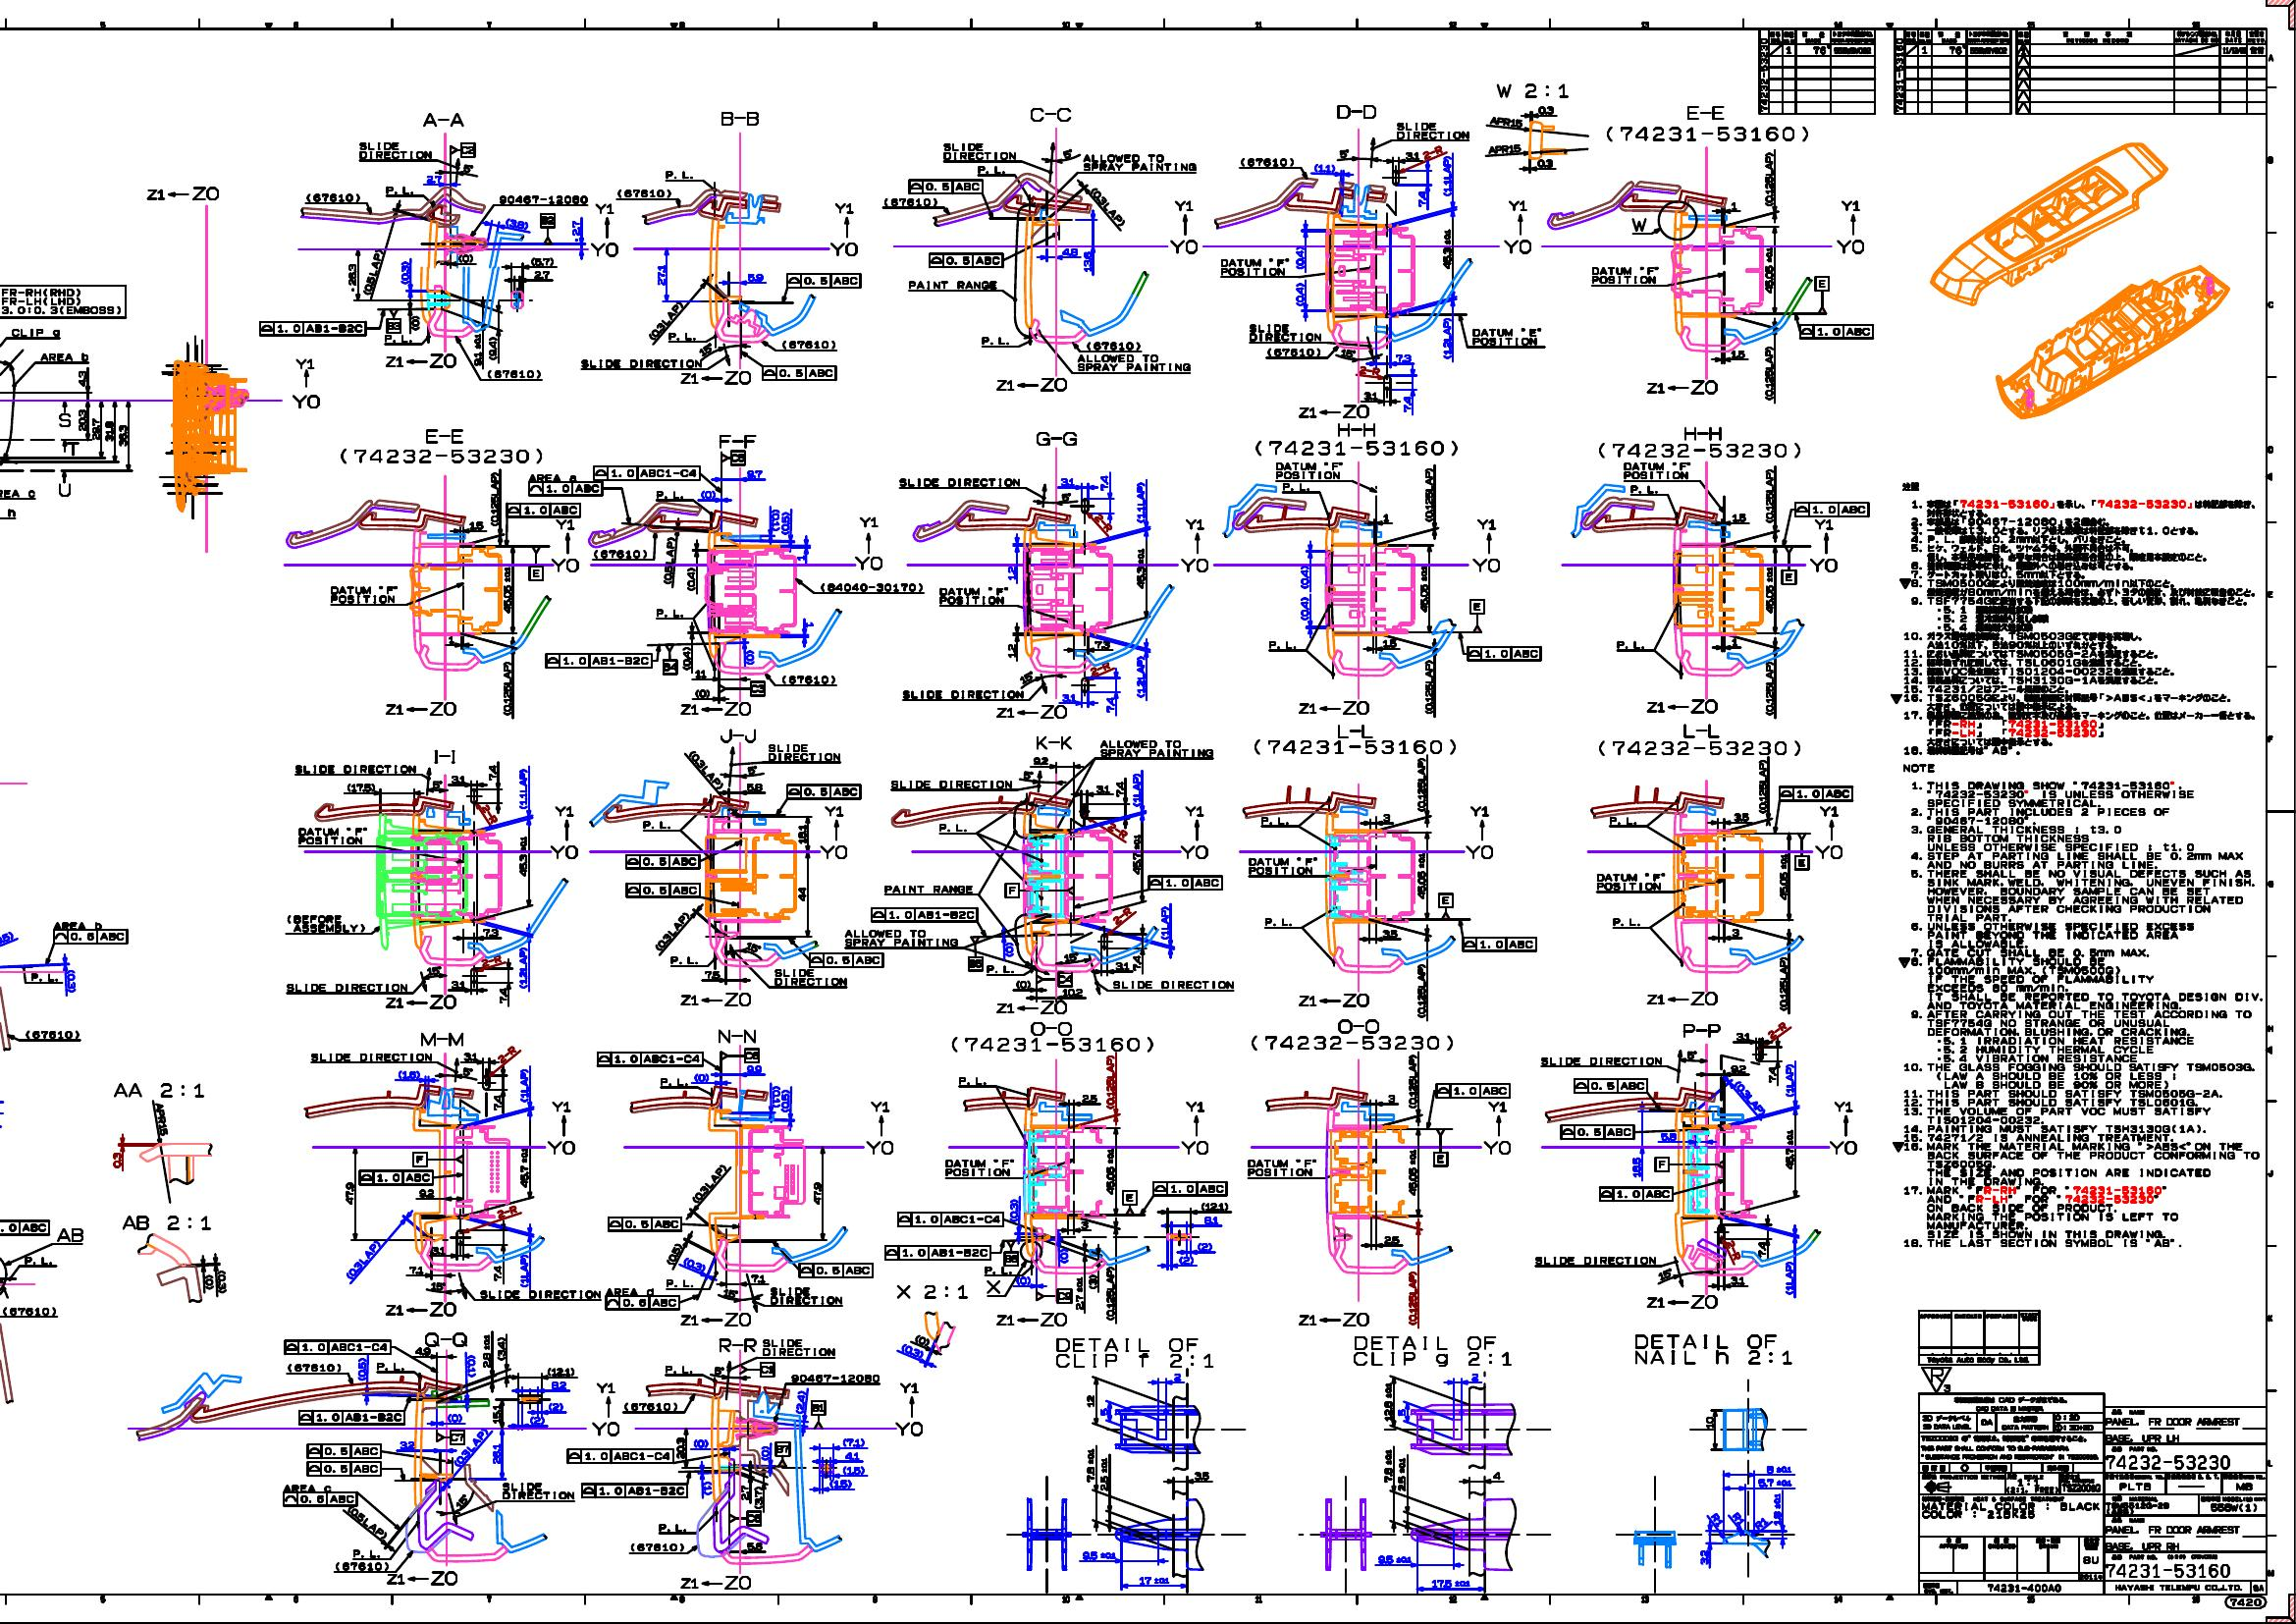anntotation_text: (1888, 480, 2261, 1250), (339, 427, 541, 466), (1254, 422, 1460, 457), (1606, 105, 1808, 141), (1249, 1018, 1456, 1051), (1597, 722, 1802, 756), (1597, 425, 1801, 457), (1254, 724, 1458, 756), (950, 1021, 1154, 1051), (1052, 1336, 1216, 1369), (1351, 1334, 1514, 1367), (1632, 1332, 1792, 1366), (0, 285, 126, 318), (1100, 738, 1214, 758), (845, 928, 959, 947), (1082, 153, 1196, 170), (1077, 353, 1191, 371), (53, 919, 126, 944), (112, 1079, 206, 1098), (121, 1213, 211, 1232), (604, 1287, 680, 1309), (1808, 518, 1839, 573), (529, 473, 603, 496), (1502, 199, 1532, 255), (1483, 1100, 1513, 1156), (546, 1100, 576, 1156), (894, 1380, 924, 1436), (898, 1211, 1003, 1227), (550, 518, 580, 573), (590, 1381, 620, 1436), (829, 202, 859, 257), (1472, 517, 1500, 573), (1180, 517, 1209, 573), (292, 357, 321, 410), (550, 805, 580, 858), (283, 1483, 357, 1504), (1170, 199, 1198, 253), (1836, 199, 1864, 253), (820, 805, 848, 859), (1180, 805, 1209, 859), (1465, 805, 1493, 859), (1815, 805, 1843, 859), (1829, 1100, 1857, 1155), (864, 1100, 892, 1155), (590, 202, 618, 257), (594, 466, 699, 480), (260, 322, 365, 336), (871, 907, 977, 921), (1180, 1100, 1209, 1153), (884, 1244, 989, 1258), (597, 1051, 703, 1065), (299, 1410, 404, 1424), (567, 1448, 673, 1462), (856, 517, 882, 571), (358, 141, 432, 160), (942, 141, 1015, 160), (286, 914, 365, 932), (1395, 121, 1470, 139), (144, 185, 220, 202), (773, 968, 848, 986), (1221, 257, 1289, 276), (1590, 265, 1658, 285), (1274, 459, 1342, 478), (1249, 323, 1323, 341), (901, 689, 1024, 700), (768, 743, 841, 761), (891, 779, 1014, 789), (896, 1283, 970, 1301), (285, 1341, 390, 1353), (581, 1483, 687, 1496), (762, 1338, 836, 1355), (1091, 186, 1124, 225), (1623, 460, 1690, 480), (330, 584, 397, 603), (546, 654, 650, 666), (769, 1287, 841, 1304), (502, 1482, 574, 1499), (1298, 1311, 1370, 1329), (1470, 327, 1541, 344), (938, 587, 1008, 605), (297, 826, 367, 844), (1247, 856, 1318, 874), (1245, 1158, 1316, 1176), (1597, 872, 1665, 889), (945, 1158, 1014, 1176), (1794, 501, 1869, 517), (1296, 404, 1370, 420), (1495, 83, 1569, 98), (787, 784, 861, 800), (1574, 1077, 1648, 1093), (1296, 991, 1370, 1007), (608, 1216, 682, 1232), (307, 1443, 381, 1459), (307, 1461, 381, 1476), (994, 1311, 1068, 1327), (787, 272, 861, 288), (1646, 380, 1718, 395), (1298, 700, 1370, 715), (385, 352, 457, 367), (385, 993, 457, 1009), (678, 991, 750, 1007), (1646, 698, 1718, 714), (1780, 786, 1852, 801), (1646, 1294, 1718, 1309), (680, 1311, 752, 1327), (385, 1301, 457, 1316), (386, 1570, 457, 1585), (898, 478, 1021, 487), (580, 359, 703, 367), (295, 765, 416, 773), (286, 982, 408, 991), (1112, 981, 1233, 990), (1541, 1056, 1662, 1065), (480, 1290, 601, 1299), (1147, 875, 1223, 889), (383, 701, 457, 715), (808, 953, 882, 967), (1599, 1186, 1672, 1200), (799, 1264, 873, 1278), (762, 366, 836, 380), (908, 179, 982, 193), (627, 882, 699, 896), (1463, 937, 1535, 951), (1646, 991, 1718, 1005), (360, 1171, 432, 1185), (678, 1575, 750, 1589), (994, 378, 1066, 392), (996, 705, 1066, 719), (680, 701, 750, 715), (996, 1000, 1066, 1014), (680, 371, 750, 385), (1799, 325, 1873, 337), (1467, 647, 1541, 659), (506, 504, 580, 517), (625, 856, 699, 868), (1560, 1125, 1634, 1137), (1152, 1181, 1226, 1193), (820, 582, 922, 591), (1437, 1084, 1509, 1097), (1534, 1257, 1657, 1264), (929, 253, 1000, 265), (311, 1053, 432, 1060), (497, 195, 588, 204), (906, 279, 998, 288), (884, 884, 973, 893), (791, 1374, 880, 1383), (1920, 1366, 1950, 1392), (1035, 431, 1079, 446), (420, 1032, 464, 1048), (423, 1330, 467, 1346), (422, 112, 466, 128), (0, 1220, 49, 1234), (718, 726, 757, 743), (2, 1304, 56, 1316), (1335, 104, 1377, 120), (720, 111, 761, 127), (1764, 149, 1774, 207), (718, 432, 757, 448), (717, 1028, 755, 1044), (1757, 758, 1767, 814), (23, 1028, 79, 1039), (306, 192, 362, 202), (1029, 107, 1072, 121), (1764, 346, 1774, 401), (488, 471, 499, 526), (1407, 1053, 1418, 1107), (1681, 1023, 1722, 1037), (717, 1338, 757, 1352), (9, 327, 61, 337), (336, 1561, 388, 1571), (1036, 735, 1073, 749), (682, 765, 729, 775), (1425, 659, 1433, 715), (1105, 1053, 1114, 1109), (882, 197, 938, 206), (1407, 1271, 1416, 1325), (1267, 346, 1321, 355), (1240, 156, 1295, 165), (1765, 661, 1774, 715), (1764, 468, 1773, 522), (1425, 468, 1433, 522), (782, 675, 836, 684), (502, 661, 511, 715), (1416, 963, 1425, 1018), (1105, 1265, 1114, 1320), (286, 1362, 341, 1371), (487, 369, 541, 378), (617, 188, 671, 197), (782, 339, 836, 348), (1086, 341, 1140, 350), (594, 548, 646, 557), (1416, 758, 1425, 810), (631, 1543, 683, 1552), (1135, 482, 1145, 524), (39, 352, 88, 360), (339, 1255, 388, 1264), (155, 1102, 167, 1137), (641, 316, 689, 325), (664, 536, 673, 584), (648, 926, 696, 935), (685, 1179, 733, 1188), (56, 1227, 83, 1243), (344, 1519, 392, 1527), (350, 267, 397, 276), (1780, 956, 1787, 1011), (624, 1403, 678, 1410), (1137, 656, 1145, 698), (1442, 316, 1451, 359), (1159, 905, 1170, 940), (1442, 156, 1451, 197), (518, 768, 527, 808), (518, 947, 527, 988), (434, 749, 455, 765), (23, 1255, 53, 1265), (1131, 772, 1140, 807), (1785, 1260, 1794, 1295), (1785, 1063, 1794, 1097), (520, 1069, 529, 1102), (520, 1253, 529, 1287), (1630, 216, 1648, 232), (1630, 483, 1657, 494), (982, 1265, 1014, 1274), (668, 330, 697, 339), (986, 965, 1015, 974), (1263, 917, 1293, 926), (1260, 816, 1289, 824), (957, 1076, 987, 1084), (657, 1522, 687, 1531), (664, 1366, 694, 1374), (383, 334, 413, 343), (664, 169, 694, 178), (975, 163, 1005, 172), (662, 659, 678, 675), (1616, 640, 1644, 649), (1268, 640, 1296, 649), (655, 608, 683, 617), (669, 956, 697, 965), (641, 819, 669, 828), (938, 823, 966, 831), (1613, 917, 1641, 926), (1609, 816, 1637, 824), (661, 1077, 689, 1086), (666, 1278, 694, 1287), (376, 1362, 404, 1371), (980, 336, 1008, 344), (1282, 482, 1309, 490), (655, 490, 682, 499), (30, 972, 56, 981), (353, 1548, 379, 1557), (1794, 856, 1809, 870), (984, 1280, 1000, 1294), (775, 1441, 791, 1455), (1815, 276, 1829, 290), (1781, 569, 1795, 584), (731, 450, 745, 464), (750, 682, 764, 696), (529, 566, 543, 580), (968, 956, 982, 970), (1058, 972, 1072, 986), (1439, 893, 1453, 907), (1655, 1156, 1669, 1171), (1433, 1151, 1448, 1165), (1123, 1190, 1137, 1204), (1003, 1251, 1017, 1265), (745, 1048, 759, 1062), (413, 1151, 427, 1165), (747, 1512, 761, 1526), (385, 186, 413, 193), (386, 318, 401, 332), (539, 213, 553, 227), (58, 413, 70, 429), (1005, 882, 1017, 898), (495, 1049, 516, 1058), (1470, 599, 1483, 613), (67, 441, 79, 455), (58, 482, 70, 496), (1058, 1290, 1072, 1302), (450, 1431, 464, 1443), (761, 1362, 773, 1376), (460, 144, 474, 156), (812, 1401, 824, 1413), (7, 508, 14, 517)
dimension_text: (1734, 1081, 1765, 1116), (446, 1443, 495, 1452), (502, 566, 511, 613), (1416, 852, 1425, 900), (1780, 852, 1788, 900), (1105, 1148, 1114, 1195), (1764, 248, 1773, 294), (1407, 1149, 1416, 1195), (1137, 547, 1145, 589), (1131, 833, 1140, 875), (1767, 1021, 1788, 1039), (1442, 228, 1451, 269), (518, 835, 527, 875), (1785, 1128, 1794, 1169), (1490, 116, 1523, 127), (1073, 1276, 1084, 1309), (520, 1148, 529, 1186), (1432, 1578, 1470, 1587), (1383, 1383, 1391, 1422), (1765, 566, 1773, 613), (1107, 823, 1128, 838), (1086, 1446, 1094, 1483), (1421, 146, 1444, 160), (1419, 566, 1426, 612), (901, 1343, 924, 1357), (1094, 513, 1112, 531), (1397, 1457, 1405, 1492), (1383, 1448, 1391, 1483), (1757, 1478, 1792, 1487), (504, 218, 529, 230), (473, 332, 481, 366), (481, 1334, 490, 1367), (1082, 1550, 1116, 1559), (1377, 1554, 1411, 1562), (1773, 1492, 1781, 1526), (1727, 1241, 1741, 1260), (346, 782, 376, 791), (1295, 281, 1305, 306), (90, 417, 100, 441), (67, 968, 77, 993), (346, 262, 357, 286), (682, 1258, 706, 1269), (466, 1353, 476, 1378), (546, 1367, 574, 1376), (399, 260, 409, 283), (216, 1271, 227, 1294), (841, 1464, 864, 1475), (794, 1390, 805, 1413), (1089, 663, 1108, 675), (1100, 1457, 1107, 1490), (1765, 1464, 1792, 1473), (1490, 144, 1521, 151), (1138, 1577, 1170, 1584), (1709, 1512, 1723, 1527), (1300, 596, 1309, 620), (1300, 564, 1309, 589), (682, 647, 690, 671), (687, 566, 696, 591), (754, 1485, 762, 1510), (531, 257, 553, 265), (1358, 366, 1381, 374), (1295, 246, 1303, 269), (1314, 163, 1337, 172), (771, 508, 780, 531), (780, 511, 789, 534), (77, 408, 86, 431), (118, 424, 126, 446), (488, 336, 497, 359), (1008, 1199, 1017, 1222), (771, 1084, 780, 1107), (780, 1090, 789, 1113), (813, 1181, 822, 1204), (669, 1243, 678, 1265), (397, 1069, 420, 1077), (357, 1357, 365, 1380), (675, 1436, 683, 1459), (829, 1478, 852, 1487), (841, 1438, 864, 1446), (697, 341, 711, 355), (1751, 1517, 1767, 1529), (571, 220, 580, 241), (657, 264, 666, 285), (1082, 250, 1091, 271), (104, 420, 112, 441), (1632, 1156, 1641, 1178), (418, 1188, 436, 1199), (344, 1181, 353, 1202), (453, 1496, 471, 1506), (1657, 1267, 1671, 1280), (497, 1336, 504, 1360), (1732, 1512, 1744, 1526), (798, 824, 806, 844), (492, 1404, 501, 1424), (1098, 475, 1108, 490), (699, 489, 715, 499), (487, 765, 497, 780), (1734, 812, 1750, 823), (532, 271, 550, 279), (747, 272, 764, 281), (1395, 353, 1412, 362), (1535, 160, 1553, 169), (1537, 105, 1555, 114), (481, 928, 499, 937), (1131, 954, 1140, 972), (1757, 1241, 1765, 1258), (1080, 1093, 1098, 1102), (1019, 671, 1033, 682), (1063, 988, 1084, 995), (1383, 928, 1397, 939), (492, 1443, 499, 1464), (915, 1334, 929, 1345), (1699, 1550, 1709, 1564), (1063, 248, 1079, 257), (1363, 390, 1379, 399), (1340, 348, 1356, 357), (1416, 190, 1425, 206), (1730, 513, 1746, 522), (1094, 640, 1110, 649), (1105, 696, 1114, 712), (1007, 642, 1015, 657), (747, 469, 762, 478), (77, 371, 86, 387), (747, 782, 762, 791), (798, 886, 806, 902), (1033, 756, 1049, 765), (1116, 780, 1124, 796), (1005, 942, 1014, 958), (1730, 1276, 1746, 1285), (1767, 1067, 1776, 1083), (1660, 1132, 1676, 1141), (1384, 1236, 1400, 1244), (457, 253, 473, 262), (411, 315, 420, 330), (1015, 1276, 1031, 1285), (1059, 1248, 1068, 1264), (750, 1274, 766, 1283), (494, 1093, 502, 1109), (494, 1265, 502, 1281), (430, 1281, 446, 1290), (408, 1265, 423, 1274), (112, 1151, 121, 1167), (206, 1274, 214, 1290), (399, 1441, 415, 1450), (415, 1346, 430, 1355), (446, 1413, 462, 1422), (550, 1380, 566, 1388), (747, 1541, 762, 1550), (740, 1485, 748, 1501), (761, 1445, 769, 1461), (1193, 1471, 1209, 1480), (1404, 395, 1411, 413), (1007, 566, 1015, 580), (1059, 478, 1073, 487), (1061, 692, 1075, 701), (469, 520, 483, 529), (427, 965, 441, 974), (499, 986, 506, 1004), (450, 773, 464, 782), (747, 942, 761, 951), (1096, 784, 1110, 793), (1014, 981, 1031, 988), (1116, 961, 1130, 970), (1736, 1032, 1750, 1040), (427, 174, 441, 183), (724, 1288, 738, 1297), (464, 1051, 478, 1060), (694, 1438, 708, 1446), (1086, 1394, 1094, 1408), (1730, 350, 1746, 357), (747, 649, 754, 664), (450, 981, 466, 988), (704, 970, 720, 977), (1022, 770, 1033, 780), (1063, 953, 1079, 960), (1730, 1065, 1746, 1072), (747, 1065, 762, 1072), (529, 1417, 545, 1424), (548, 1403, 564, 1410), (696, 689, 708, 698), (694, 668, 706, 677), (703, 1482, 711, 1494), (1383, 640, 1397, 647), (1089, 1274, 1096, 1288), (694, 1074, 708, 1081), (432, 1246, 446, 1253), (845, 1452, 859, 1459), (1063, 148, 1072, 158), (1339, 148, 1349, 156), (747, 765, 755, 775), (1686, 1049, 1697, 1058), (462, 163, 473, 172), (462, 1067, 473, 1076), (713, 1366, 724, 1374), (1405, 151, 1418, 158), (1061, 492, 1070, 501), (1388, 1093, 1397, 1102), (1080, 1220, 1089, 1229), (1491, 1471, 1500, 1480), (1470, 1373, 1479, 1381), (432, 780, 443, 787), (1383, 513, 1390, 522), (1383, 814, 1390, 823), (1732, 928, 1739, 935), (1173, 1373, 1180, 1380), (1730, 202, 1736, 211), (1732, 638, 1737, 647), (796, 555, 805, 561), (806, 622, 813, 627)
object: (1929, 141, 2233, 422), (134, 1369, 548, 1564), (1542, 1072, 1823, 1276), (891, 789, 1159, 974), (283, 497, 553, 671), (1546, 178, 1813, 353), (912, 497, 1175, 675), (1569, 482, 1806, 677), (302, 1084, 546, 1272), (1212, 174, 1472, 350), (587, 496, 841, 675), (1223, 482, 1456, 677), (313, 794, 569, 968), (588, 779, 820, 968), (963, 1086, 1193, 1274), (1240, 784, 1456, 975), (1588, 784, 1806, 974), (629, 1084, 848, 1272), (931, 172, 1149, 344), (645, 1376, 841, 1566), (1265, 1084, 1455, 1276), (299, 186, 523, 337), (1318, 1401, 1516, 1571), (1021, 1404, 1205, 1571), (641, 188, 817, 344), (1632, 1406, 1769, 1568), (170, 359, 248, 513), (135, 1232, 204, 1304), (137, 1141, 213, 1185), (1527, 120, 1567, 160), (924, 1309, 956, 1353), (495, 1207, 516, 1216)
title_block: (1918, 1394, 2266, 1594), (2017, 28, 2266, 112), (1758, 28, 1874, 114), (1894, 28, 2010, 112), (1918, 1309, 2040, 1366)
